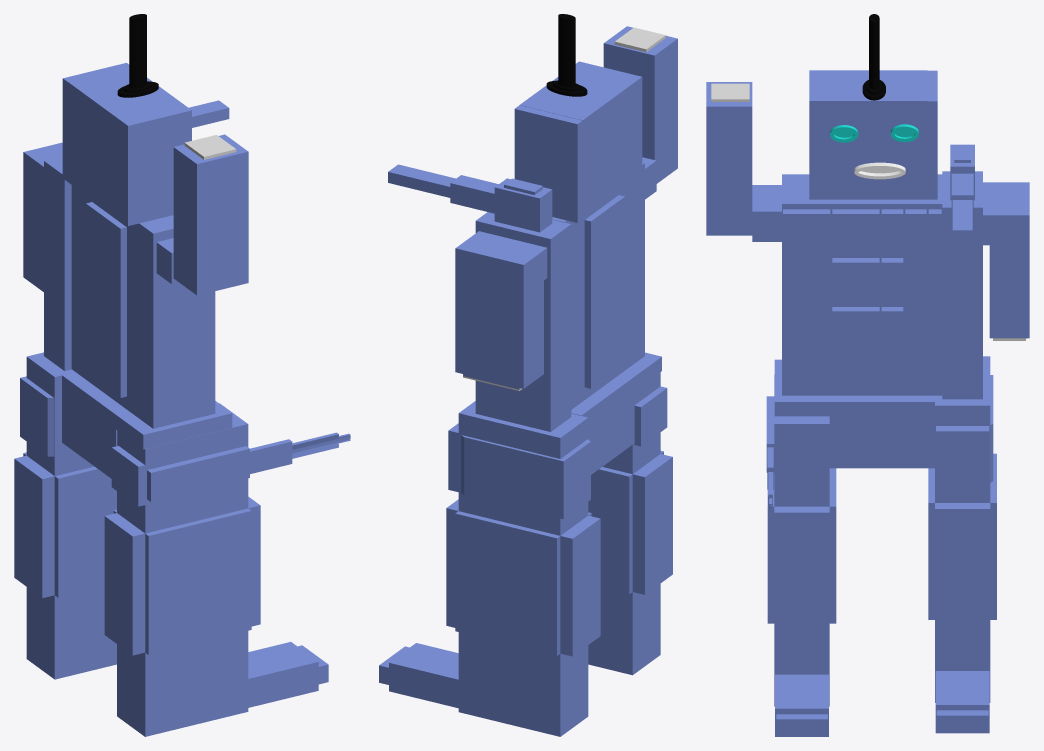
File: suamaev3glb.glb
3 renders of one model, left to right at view 1: azimuth 30°, elevation 25°; view 2: azimuth 150°, elevation 25°; view 3: azimuth 270°, elevation 25°, orthographic.
Visible parts, largest first — view 1: Cube.001, Cube, Cylinder.001, Cube.002; view 2: Cube.001, Cube, Cylinder.001, Cube.002; view 3: Cube.001, Cube, Cylinder.001, Cylinder, Cube.002.
Boxes of the visible parts, x1,y1,x2,y2 form: Cube.001: (14,63,248,679); Cube: (104,403,350,736); Cylinder.001: (117,14,158,97); Cube.002: (184,135,236,159); Cube.001: (379,26,677,736); Cube: (588,372,672,675); Cylinder.001: (546,14,587,96); Cube.002: (614,27,665,52); Cube.001: (706,70,1029,733); Cube: (766,375,836,736); Cylinder.001: (862,14,885,100); Cylinder: (854,162,905,179); Cube.002: (711,83,749,101).
Size of the model in its own units: 0.7418 by 2.13 by 0.9454.
